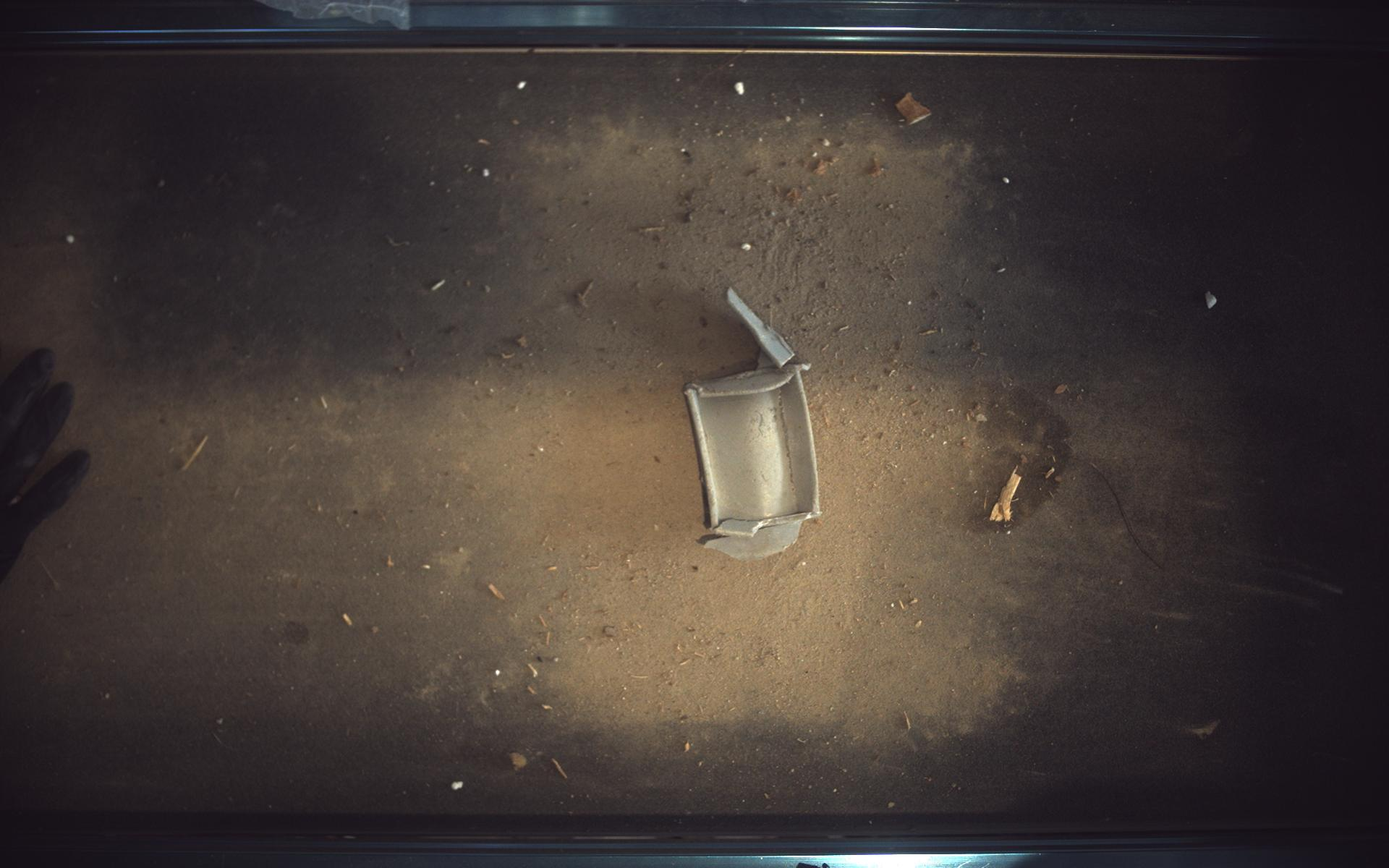plastic: (685, 287, 822, 560)
